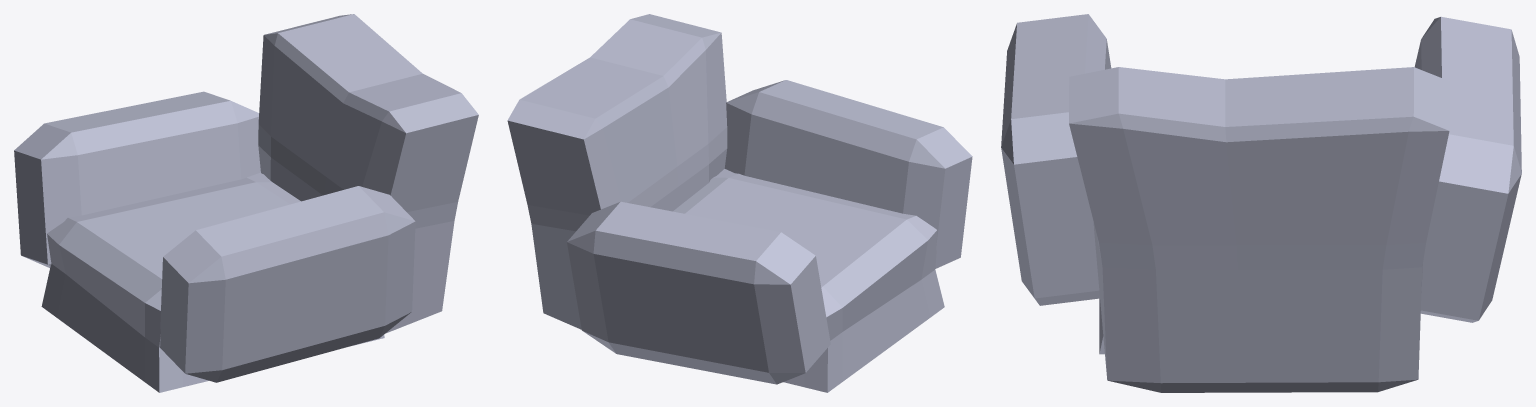
File: couch2_grey.fbx
3 renders of one model, left to right at view 1: azimuth 30°, elevation 25°; view 2: azimuth 150°, elevation 25°; view 3: azimuth 270°, elevation 25°, orthographic. The views are drawn at different scales.
Parts seen in each view (by area): view 1: Cube.001; view 2: Cube.001; view 3: Cube.001.
Part boxes in pixels (left/top/right/bottom): Cube.001: left=14, top=14, right=478, bottom=392; Cube.001: left=507, top=14, right=972, bottom=392; Cube.001: left=1001, top=14, right=1521, bottom=392.
Bounding box in the file's own units: 311 × 209 × 331.
